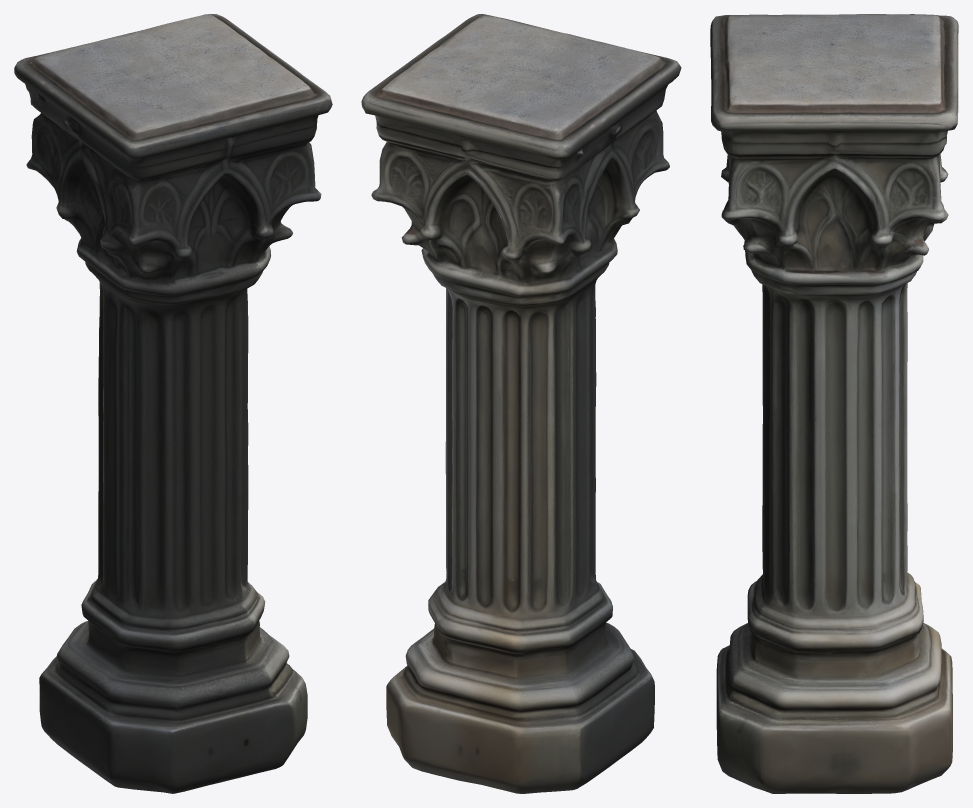
File: pillar_intact.glb
3 renders of one model, left to right at view 1: azimuth 30°, elevation 25°; view 2: azimuth 150°, elevation 25°; view 3: azimuth 270°, elevation 25°, orthographic. The views are drawn at different scales.
Size of the model in its own units: 0.6492 by 2 by 0.6495.
1 material, 1 textured.
